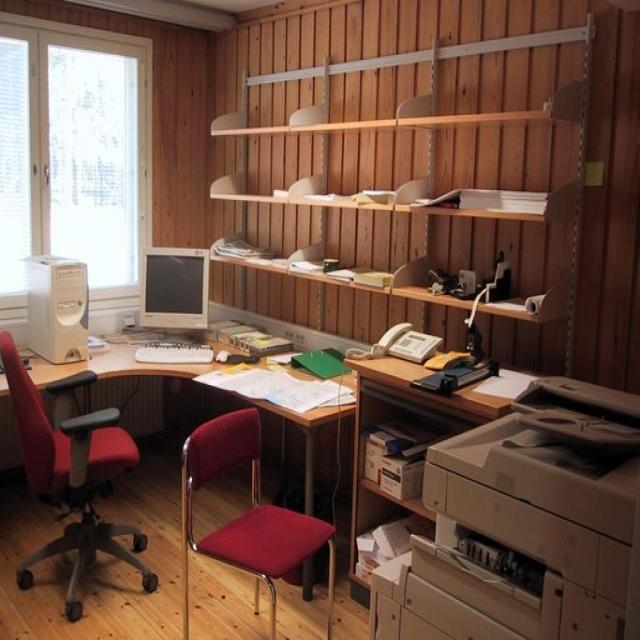chair: (0, 328, 158, 621), (180, 406, 335, 639)
indoor-plant: (2, 2, 636, 638)
shelves: (207, 10, 595, 355)
tables: (0, 328, 357, 618)
television: (139, 246, 210, 342)
window: (0, 11, 152, 310)
